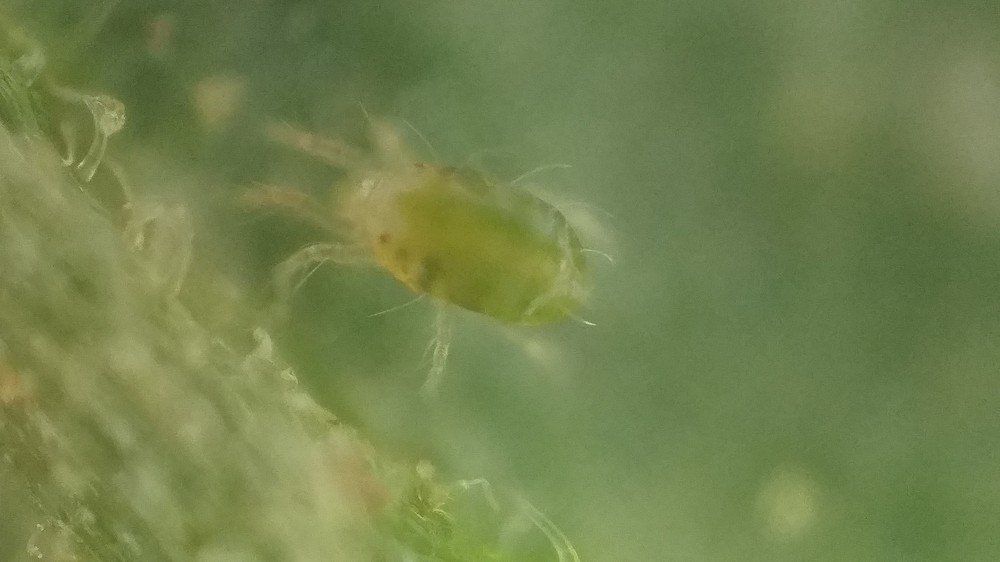Aracnido Rojo: (239, 101, 650, 413)
